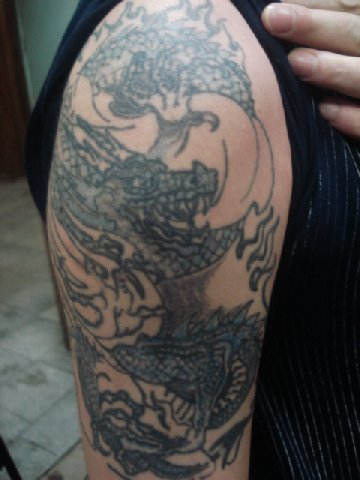tatu6_drakon: (50, 4, 285, 462), (50, 6, 285, 463), (25, 141, 259, 209)
